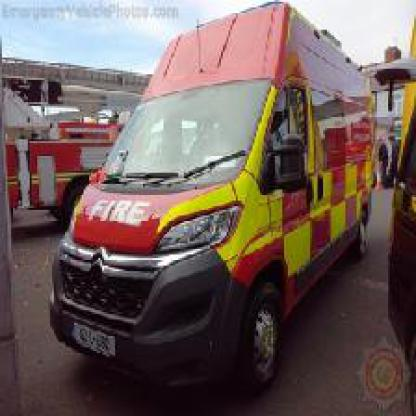emergency: (44, 0, 384, 390)
